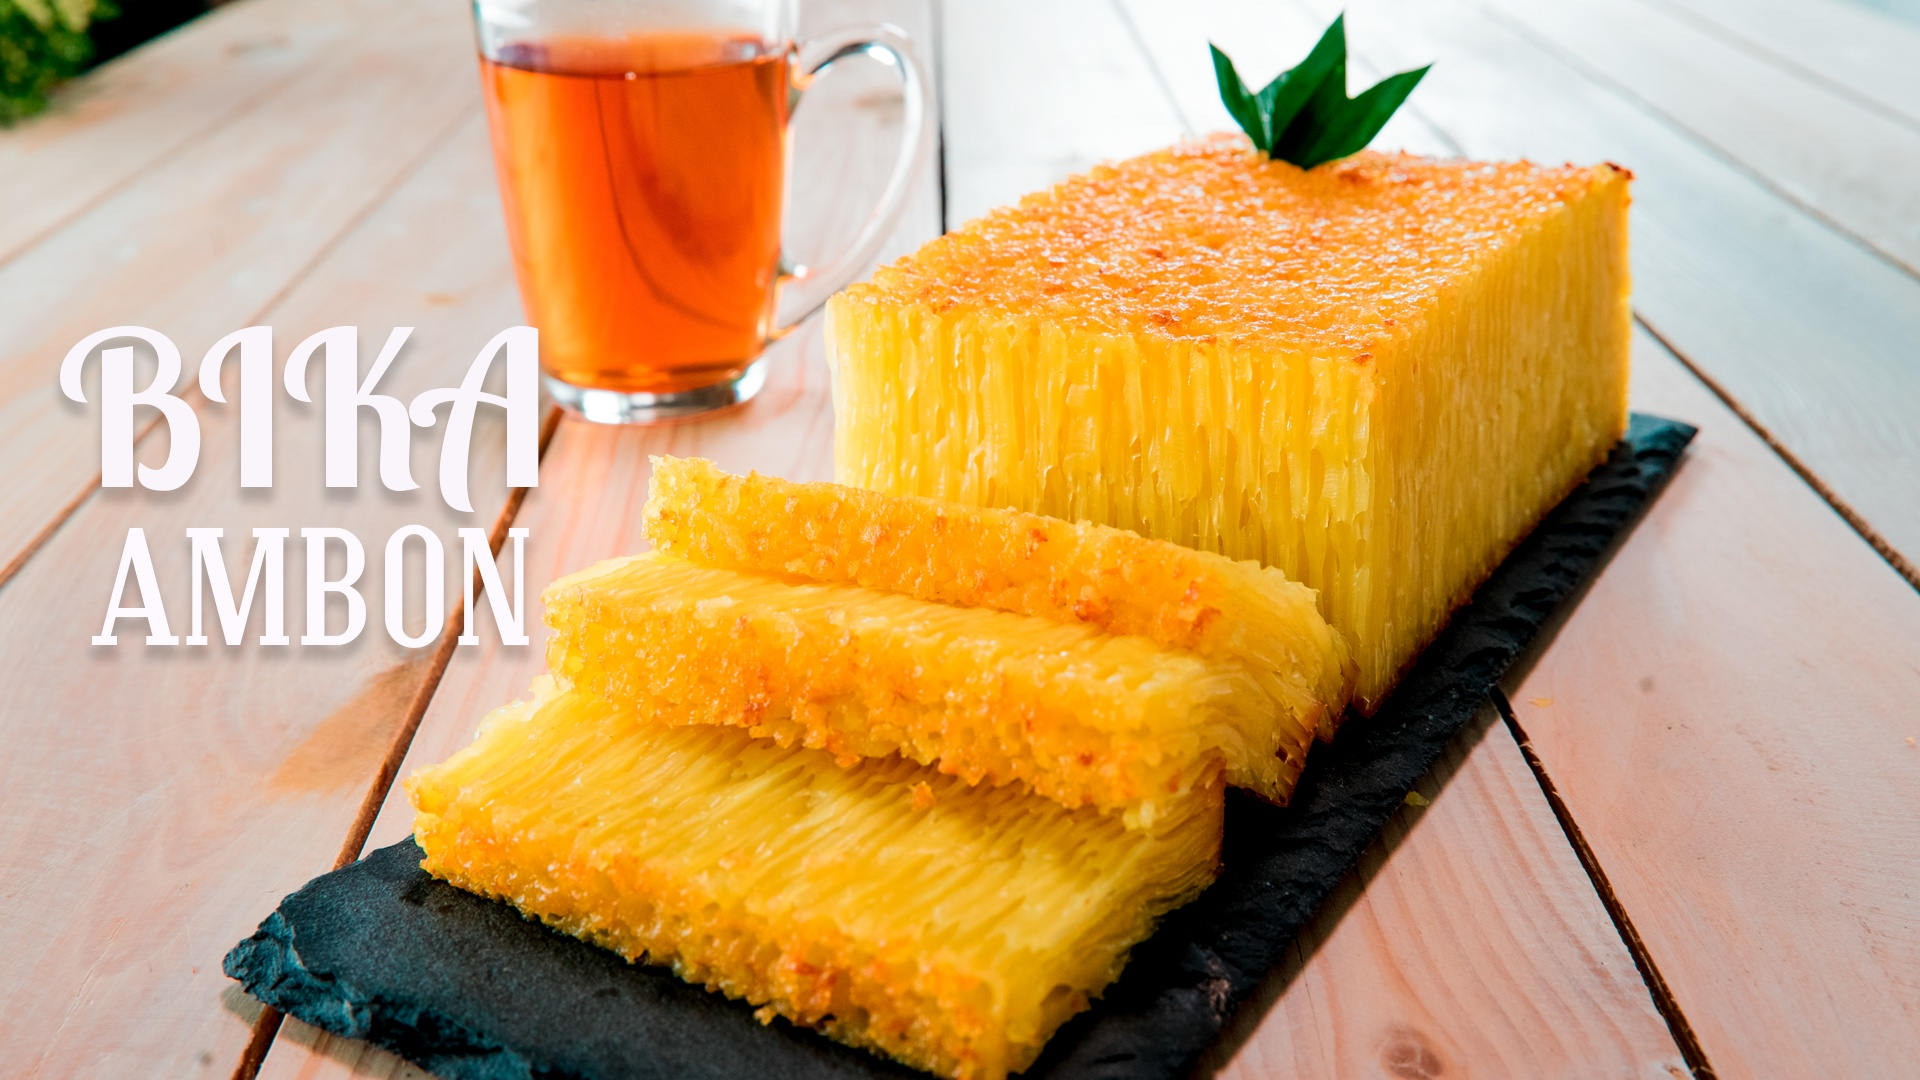bika_ambon: (411, 647, 1240, 1068), (778, 269, 1399, 778), (611, 444, 1361, 841)
